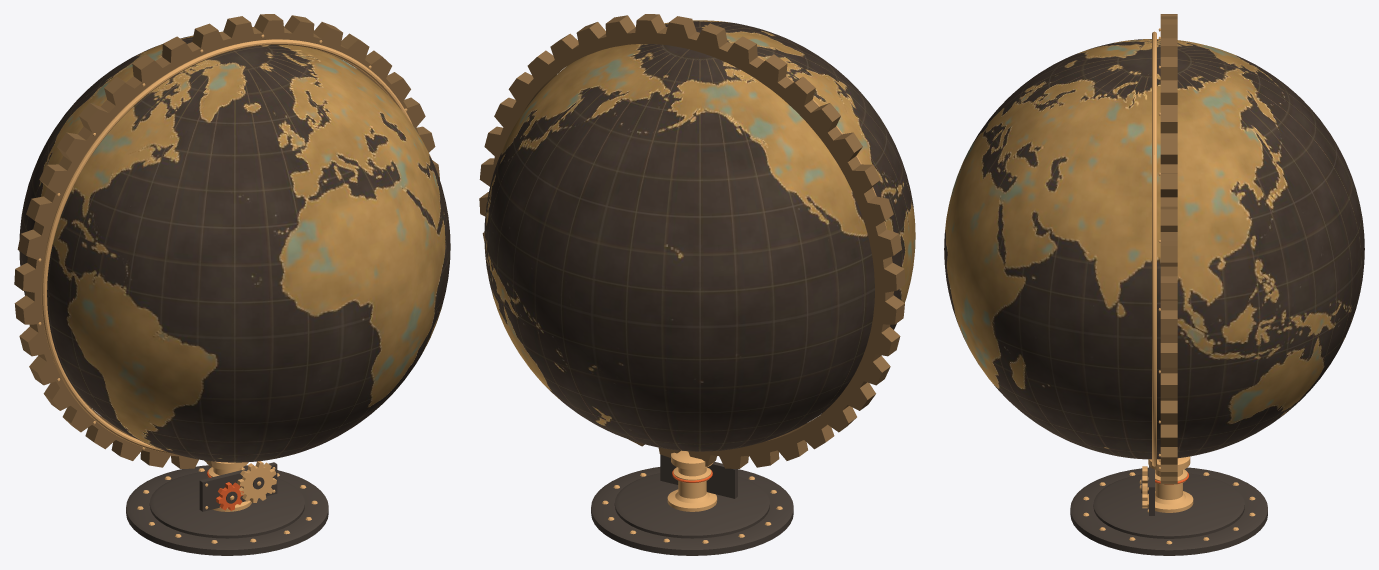
The model's file is 2026-11-27_city-globe-steampunk.glb.
3 views of the same model, side by side, from view 1: azimuth 30°, elevation 25°; view 2: azimuth 150°, elevation 25°; view 3: azimuth 270°, elevation 25° (orthographic). The views are drawn at different scales.
Visible parts, largest first — view 1: Globe, Stand; view 2: Globe, Stand; view 3: Globe, Stand.
Boxes of the visible parts, x1,y1,x2,y2 form: Globe: (19,31,450,462); Stand: (14,14,439,555); Globe: (484,20,915,451); Stand: (479,14,905,555); Globe: (944,39,1364,459); Stand: (1070,14,1267,555).
Bounding box in the file's own units: 2.24 × 2.51 × 2.
5 materials, 1 textured.
